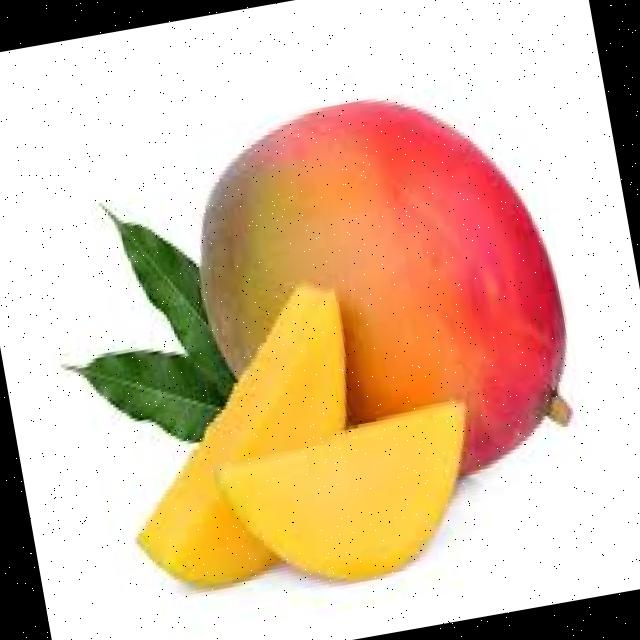mango: (199, 101, 569, 480)
